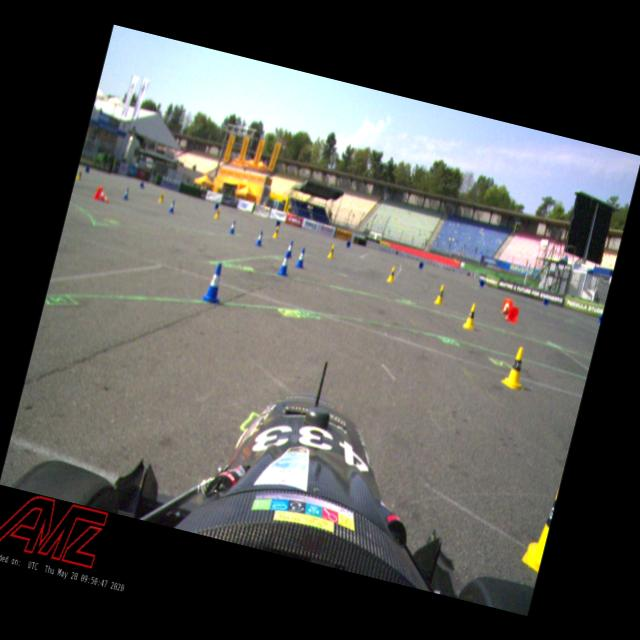blue_cone: (201, 260, 228, 305), (276, 250, 293, 278), (294, 246, 308, 270), (284, 239, 296, 259), (253, 228, 264, 248), (226, 218, 237, 236), (167, 198, 176, 213), (122, 186, 130, 201)
orange_cone: (92, 184, 112, 204), (504, 306, 520, 324), (499, 298, 514, 316)
yellow_cone: (516, 467, 562, 577), (498, 342, 532, 392), (460, 300, 480, 332), (433, 283, 448, 306), (385, 266, 397, 284), (270, 222, 280, 240), (326, 242, 336, 260), (74, 166, 84, 182), (212, 205, 221, 220), (157, 190, 165, 204)
